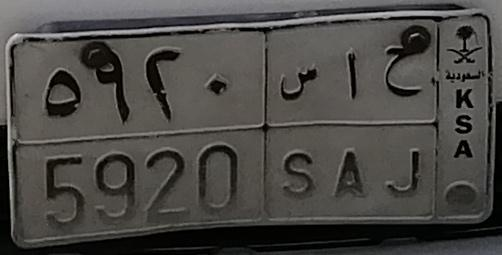0: (195, 71, 241, 215)
2: (142, 47, 190, 221)
5: (40, 67, 86, 229)
9: (90, 49, 138, 225)
A: (332, 46, 369, 199)
J: (384, 44, 423, 199)
S: (279, 64, 319, 197)
